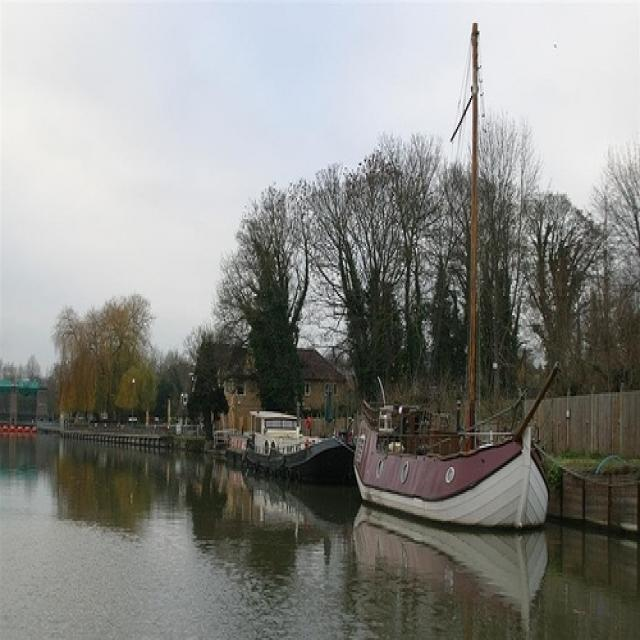Ship: (357, 26, 552, 548)
